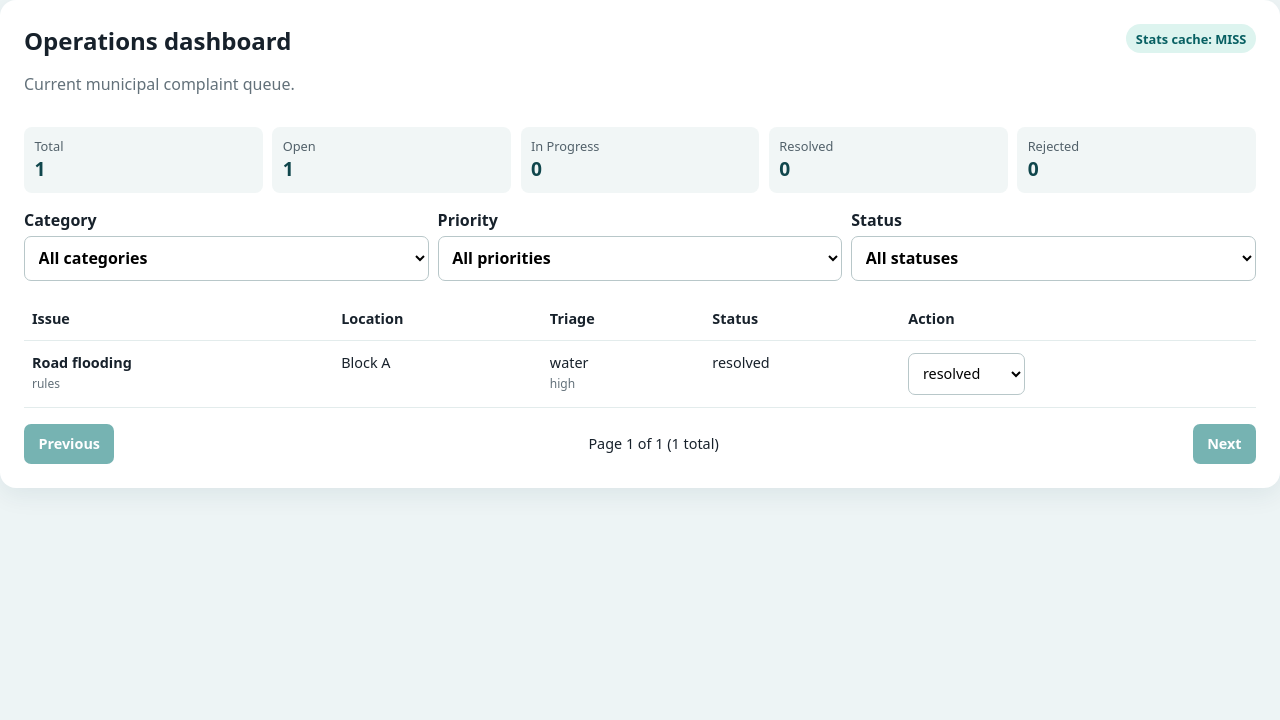
Test case: Dashboard › renders the server's 409 transition explanation verbatim
Check: the text "Road flooding" is shown, box [32,353,132,372]
Select "open" in the dropdown named "Update complaint-1". click: (967, 374)
box: [908,353,1026,395]
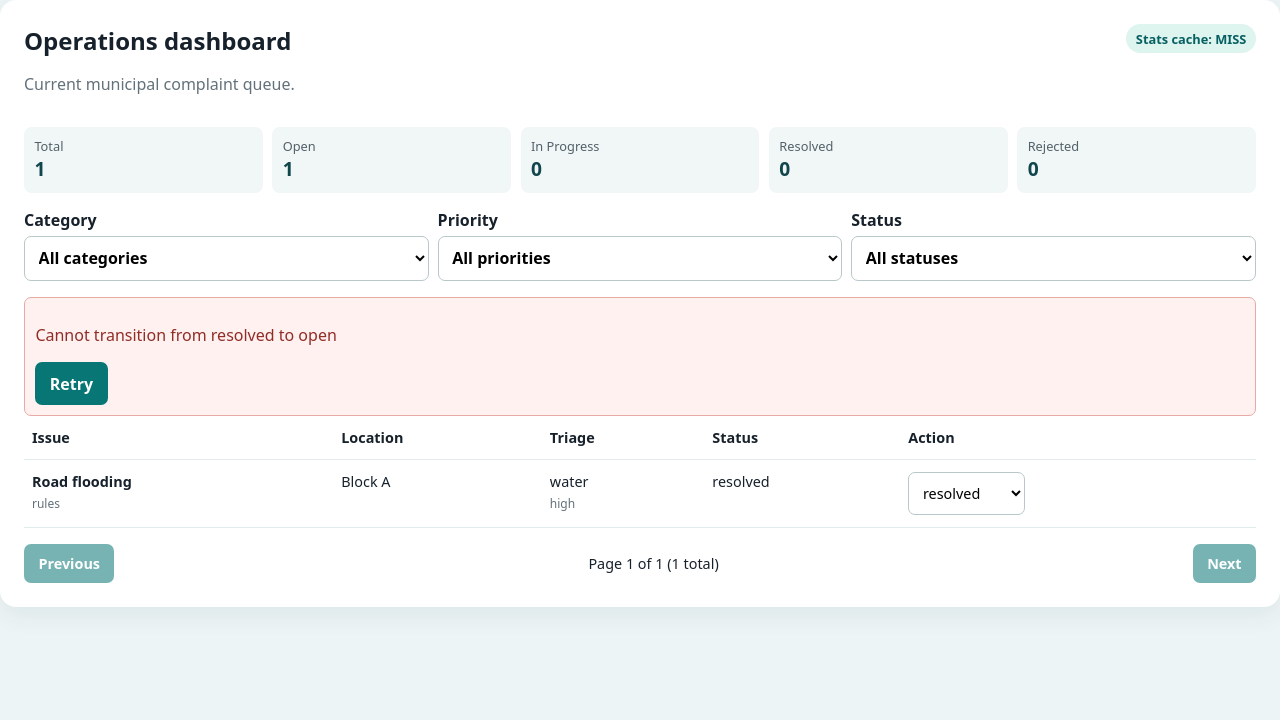
Check: the message shows "Cannot transition from resolved to open", box [35,324,337,346]
